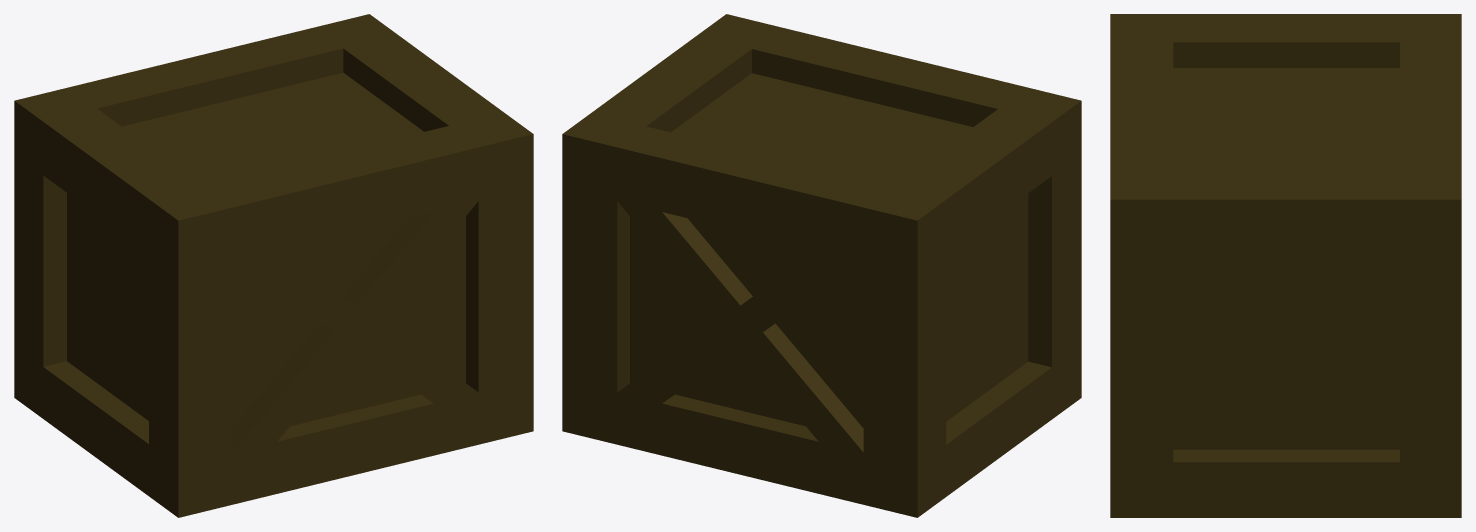
3 views of the same model, side by side, from view 1: azimuth 30°, elevation 25°; view 2: azimuth 150°, elevation 25°; view 3: azimuth 270°, elevation 25° (orthographic). The views are drawn at different scales.
Visible parts, largest first — view 1: pCube1; view 2: pCube1; view 3: pCube1.
Boxes of the visible parts, x1,y1,x2,y2 form: pCube1: [14, 14, 533, 517]; pCube1: [562, 14, 1081, 517]; pCube1: [1110, 14, 1461, 517].
Size of the model in its own units: 66.81 by 53.45 by 53.45.
